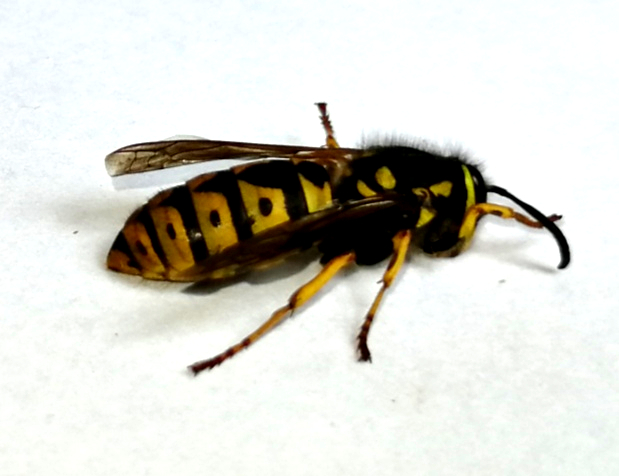chax: (89, 100, 584, 382)
